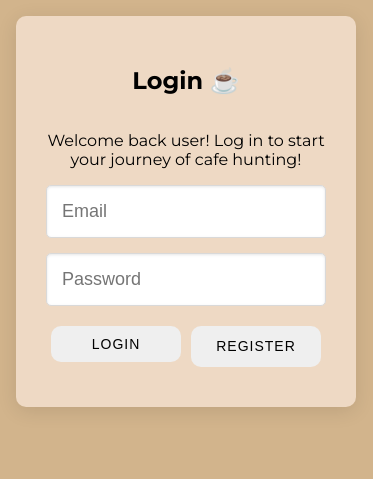
Test: LoginPage Component › shows an error message if login fails
This screenshot has width=373, height=479.
Type "user@example.com" into the field with placeholder "Email" at (186, 211), box [46,185,326,238]
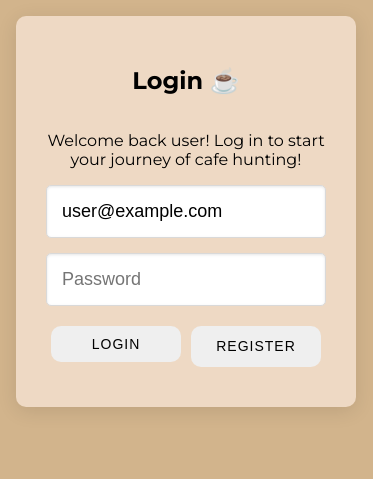
Type "wrongpassword" into the password field with placeholder "Password" at (186, 279), box [46,253,326,306]
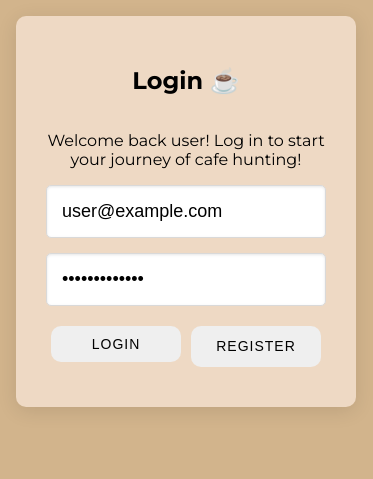
Click the button "Login" at (116, 344), box [51,326,181,362]
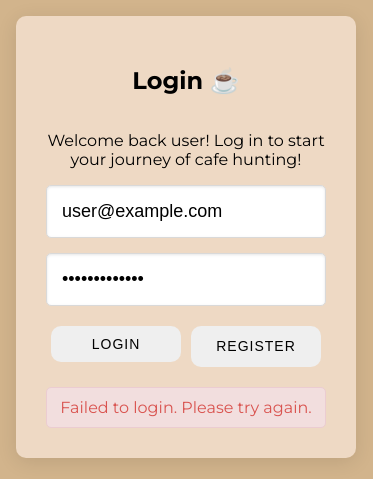
Result: the text "Failed to login. Please try again." is shown at [46,387,326,428]
